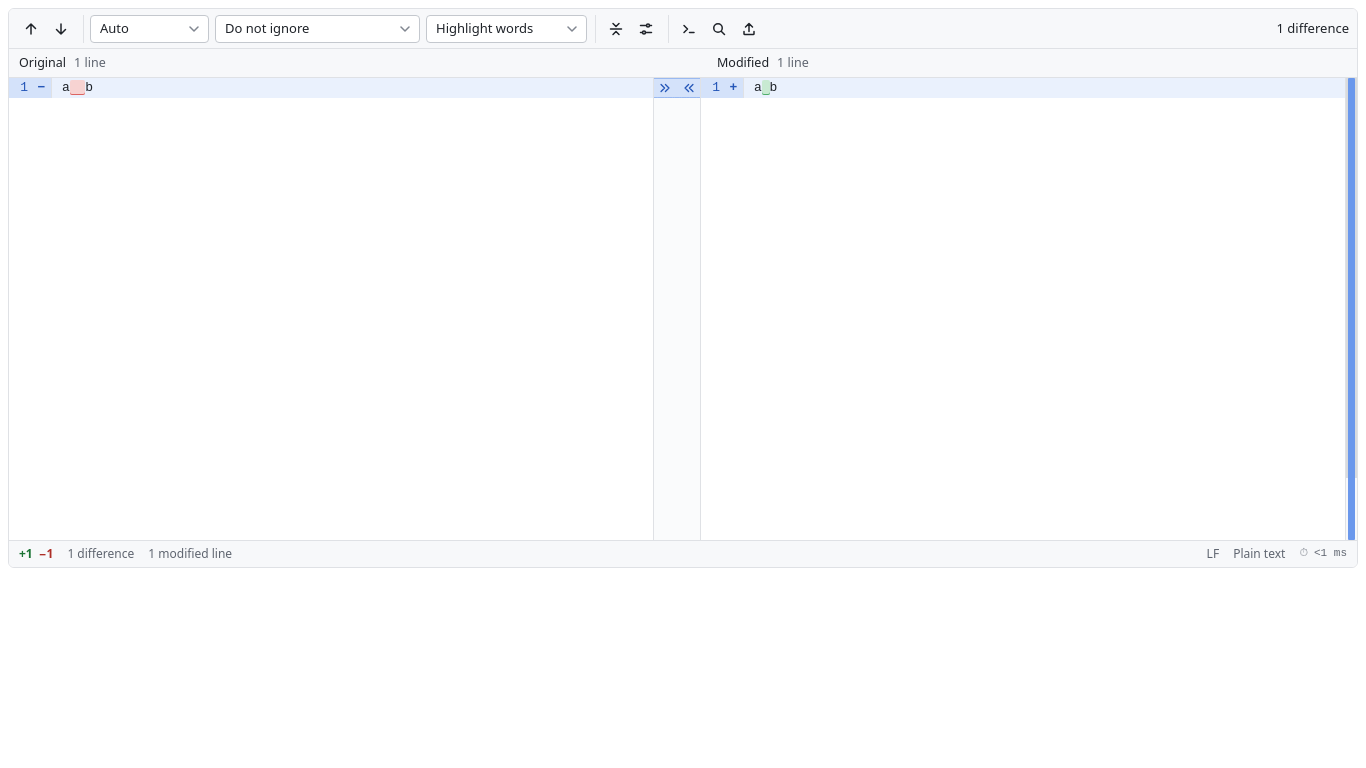
it: <DiffViewer> options › ignores whitespace from the toolbar and reports the outcome
The width and height of the screenshot is (1366, 768).
Expected: the element showing "1 difference" is shown, 9,9 -> 1357,49
Select "Ignore whitespace changes" in the dropdown named "Whitespace": (318, 28) 215,14 -> 420,42
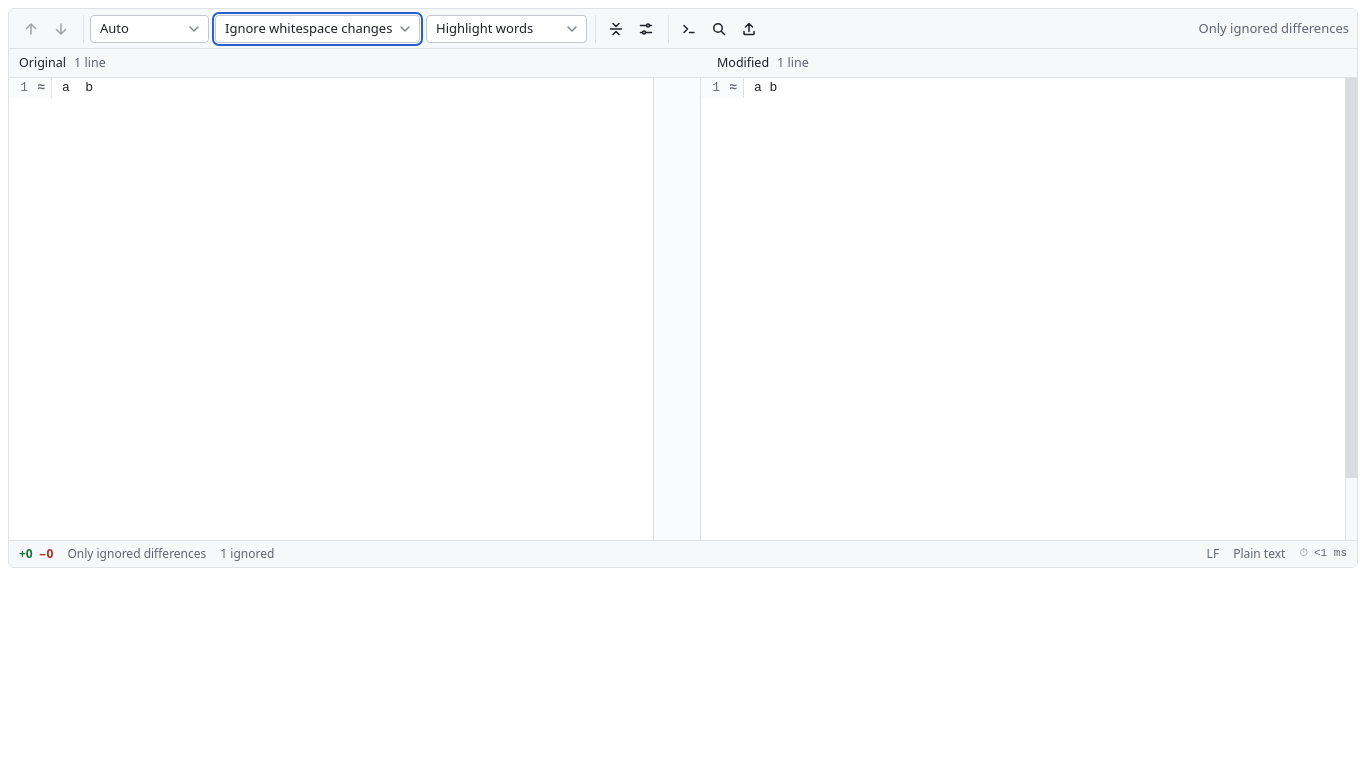
Expected: the element showing "Only ignored differences" is shown, 9,9 -> 1357,49
